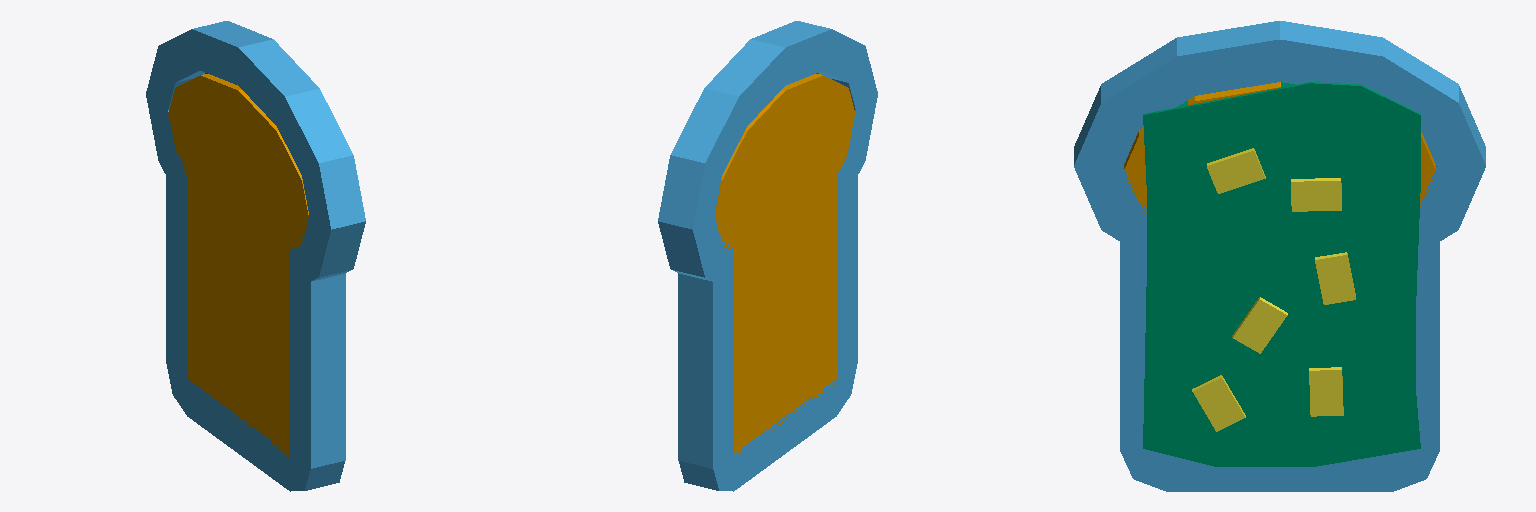
URDF robot description (bread_slice):
<?xml version="1.0"?>
<robot name="bread_slice">
  <link name="core">
    <inertial>
        <origin rpy="0 0 0" xyz="0 0 0"/>
        <mass value="0.02"/>
        <inertia ixx="4.4e-5" ixy="0" ixz="0" iyy="0" iyz="0" izz="4.4e-5"/>
    </inertial>
    <visual>
      <geometry>
        <mesh filename="slice_core.obj"/>
      </geometry>
    </visual>
    <collision>
      <geometry>
        <mesh filename="slice_core.obj"/>
      </geometry>
      <surface>
           <bounce restitution_coefficient = "0.1"/>
      </surface>
    </collision>
  </link>
  <link name="crust">
    <inertial>
        <origin rpy="0 0 0" xyz="0 0 0"/>
        <mass value="0.002"/>
        <inertia ixx="4.4e-5" ixy="0" ixz="0" iyy="0" iyz="0" izz="4.4e-5"/>
    </inertial>
    <visual>
      <geometry>
        <mesh filename="slice_crust.obj"/>
      </geometry>
    </visual>
    <collision>
      <geometry>
        <mesh filename="slice_crust.obj"/>
      </geometry>
      <surface>
           <bounce restitution_coefficient = "0.1"/>
      </surface>
    </collision>
  </link>
  <link name="butter">
    <inertial>
        <origin rpy="0 0 0" xyz="0 0 0"/>
        <mass value="0.002"/>
        <inertia ixx="4.4e-5" ixy="0" ixz="0" iyy="0" iyz="0" izz="4.4e-5"/>
    </inertial>
    <visual>
      <geometry>
        <mesh filename="slice_butter.obj"/>
      </geometry>
    </visual>
    <collision>
      <geometry>
        <mesh filename="slice_butter.obj"/>
      </geometry>
      <surface>
           <bounce restitution_coefficient = "0.1"/>
      </surface>
    </collision>
  </link>
  <link name="pepper">
    <inertial>
        <origin rpy="0 0 0" xyz="0 0 0"/>
        <mass value="0.001"/>
        <inertia ixx="4.4e-5" ixy="0" ixz="0" iyy="0" iyz="0" izz="4.4e-5"/>
    </inertial>
    <visual>
      <geometry>
        <mesh filename="slice_pepper.obj"/>
      </geometry>
    </visual>
    <collision>
      <geometry>
        <mesh filename="slice_pepper.obj"/>
      </geometry>
      <surface>
           <bounce restitution_coefficient = "0.1"/>
      </surface>
    </collision>
  </link>
  <joint name="core_to_crust" type="fixed">
    <parent link="core"/>
    <child link="crust"/>
    <origin rpy="0 0 0" xyz="0 0 -0.011"/>
  </joint>
  <joint name="core_to_butter" type="fixed">
    <parent link="core"/>
    <child link="butter"/>
    <origin rpy="0 0 0" xyz="0.005 0.009 -0.021"/>
  </joint>
  <joint name="core_to_pepper" type="fixed">
    <parent link="core"/>
    <child link="pepper"/>
    <origin rpy="0 0 0" xyz="0.004 0.025 -0.01"/>
  </joint>
</robot>

--- Render facts (derived) ---
3 views of the same robot in one strip: view 1: azimuth 30°, elevation 25°; view 2: azimuth 150°, elevation 25°; view 3: azimuth 270°, elevation 25° (orthographic).
Robot: bread_slice — 4 links, 3 joints (3 fixed); root link core; default pose: all joints at 0.
Visible links, largest first — view 1: crust, core; view 2: crust, core; view 3: butter, crust, pepper, core.
Link boxes in pixels (x1,y1,x2,y2): crust: [146, 21, 365, 491]; core: [168, 74, 308, 457]; crust: [658, 21, 877, 491]; core: [715, 74, 855, 456]; butter: [1143, 82, 1420, 466]; crust: [1074, 21, 1485, 491]; pepper: [1192, 148, 1355, 431]; core: [1124, 82, 1435, 212].
Size in the robot's own frame: 0.0182 by 0.1372 by 0.1659 metres.
Meshes: 4 distinct files referenced, 4 mesh visuals loaded (4 OBJ).
